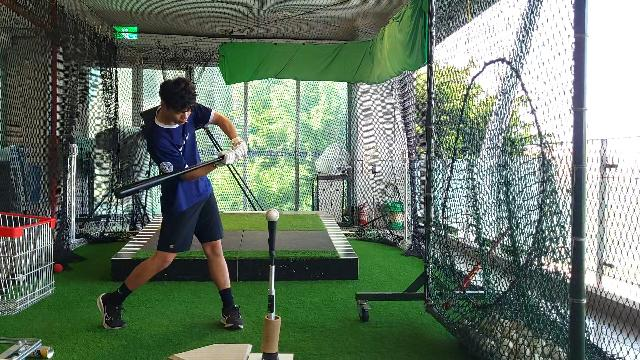bat: (114, 156, 226, 198)
